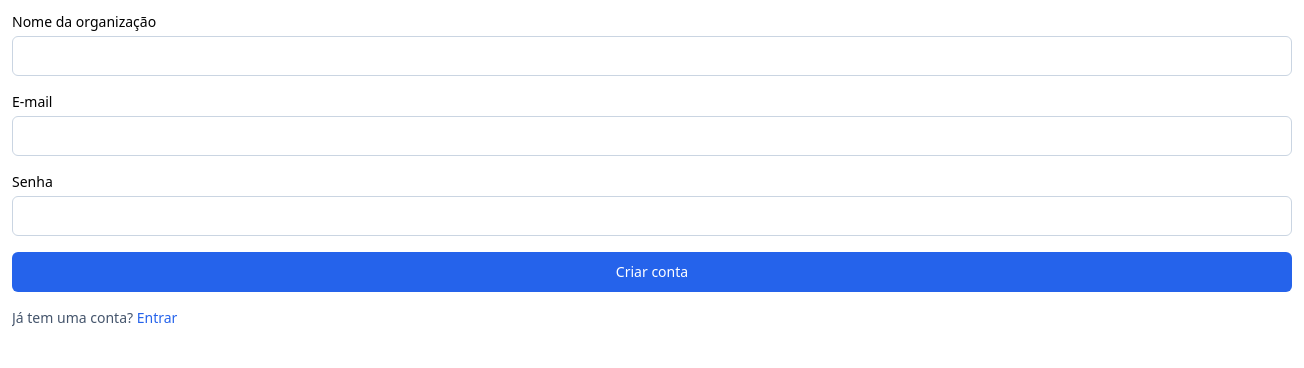
Test: RegisterForm › should show a validation error for a weak password
Type "Minha Empresa" into the field labelled "Nome da organização" at (652, 56), box x1=12 y1=36 x2=1292 y2=76
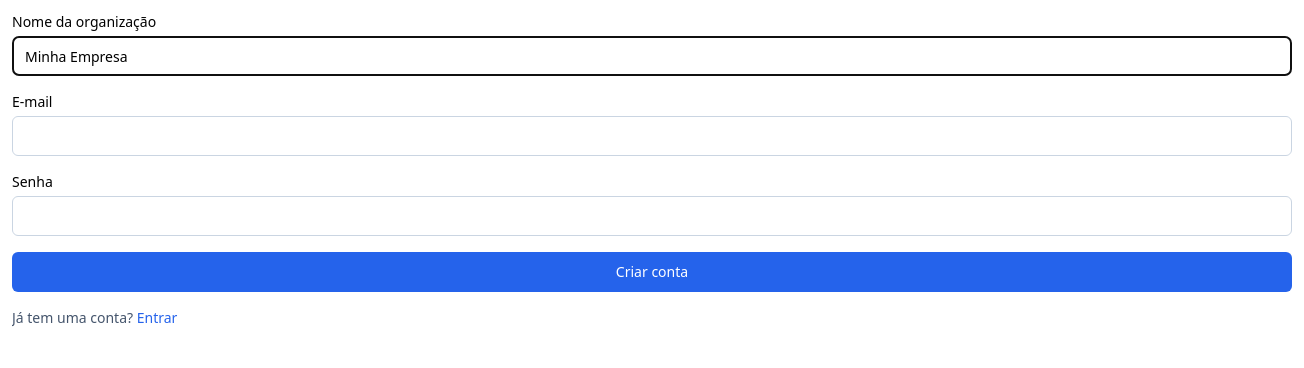
Type "user@example.com" into the field labelled "E-mail" at (652, 136), box x1=12 y1=116 x2=1292 y2=156
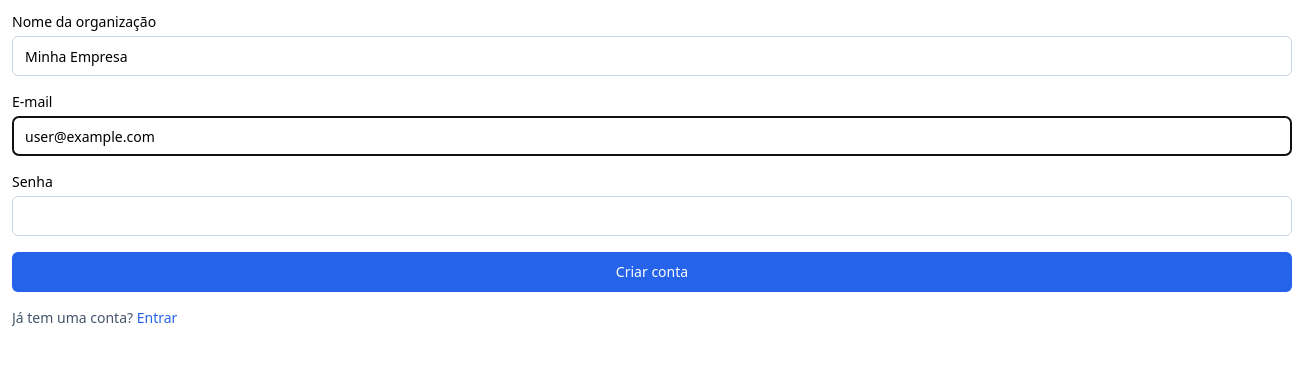
Type "weak" into the password field labelled "Senha" at (652, 216), box x1=12 y1=196 x2=1292 y2=236
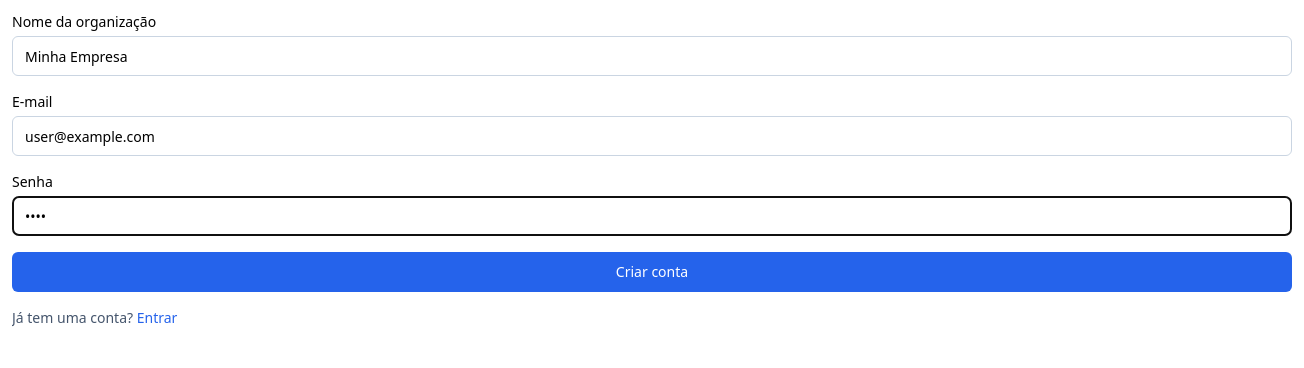
Click the button "Criar conta" at (652, 272), box x1=12 y1=252 x2=1292 y2=292
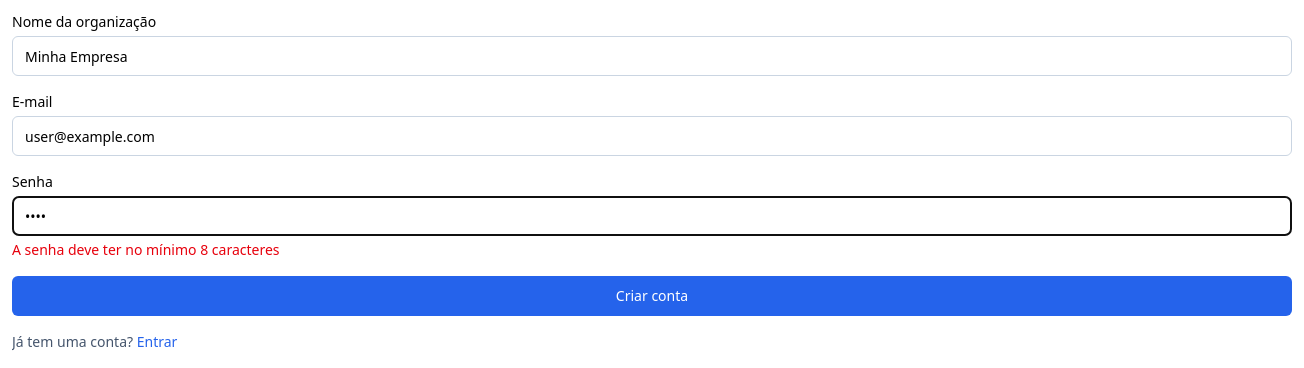
expect the message "A senha deve ter no mínimo 8 caracteres" is shown: met, box x1=12 y1=240 x2=280 y2=259
